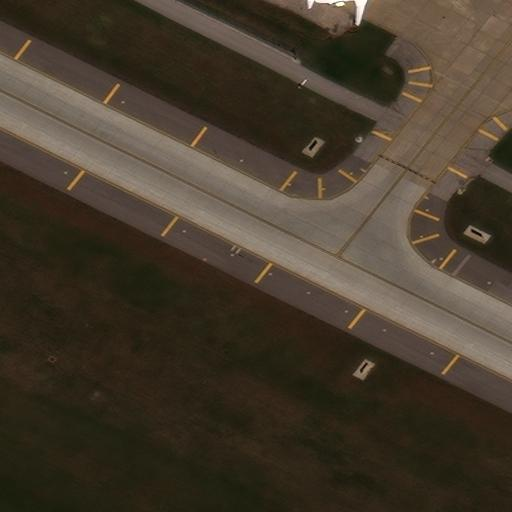Medium Civil Transport: (307, 0, 387, 24)
